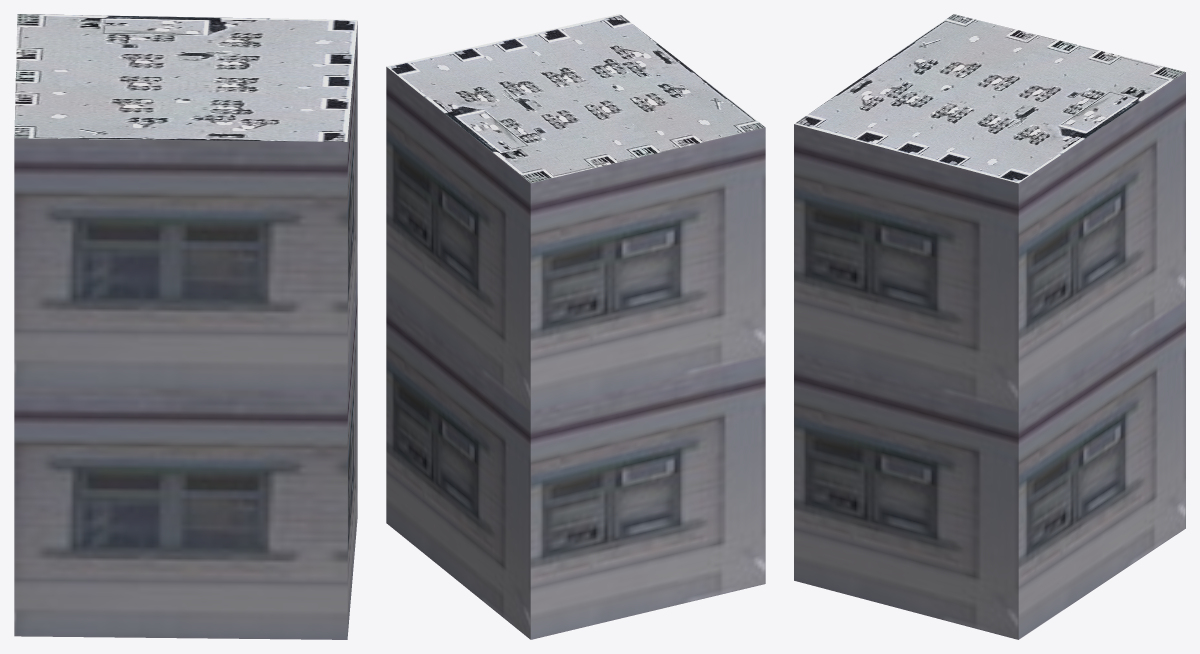
File: ResTex__2732.fbx
The picture shows the model from 3 angles, left to right: view 1: azimuth 30°, elevation 25°; view 2: azimuth 150°, elevation 25°; view 3: azimuth 270°, elevation 25°; orthographic projection. The views are drawn at different scales.
Visible parts, largest first — view 1: CityEngineMaterial_1_m, CityEngineMaterial_4_m; view 2: CityEngineMaterial_1_m, CityEngineMaterial_4_m; view 3: CityEngineMaterial_1_m, CityEngineMaterial_4_m.
Boxes of the visible parts, x1,y1,x2,y2 form: CityEngineMaterial_1_m: [14, 21, 357, 639]; CityEngineMaterial_4_m: [14, 14, 357, 141]; CityEngineMaterial_1_m: [386, 67, 765, 639]; CityEngineMaterial_4_m: [386, 14, 765, 183]; CityEngineMaterial_1_m: [794, 72, 1185, 639]; CityEngineMaterial_4_m: [794, 14, 1185, 183].
Size of the model in its own units: 4.77 by 6 by 4.66.
Materials: 2 (2 with a texture image).
